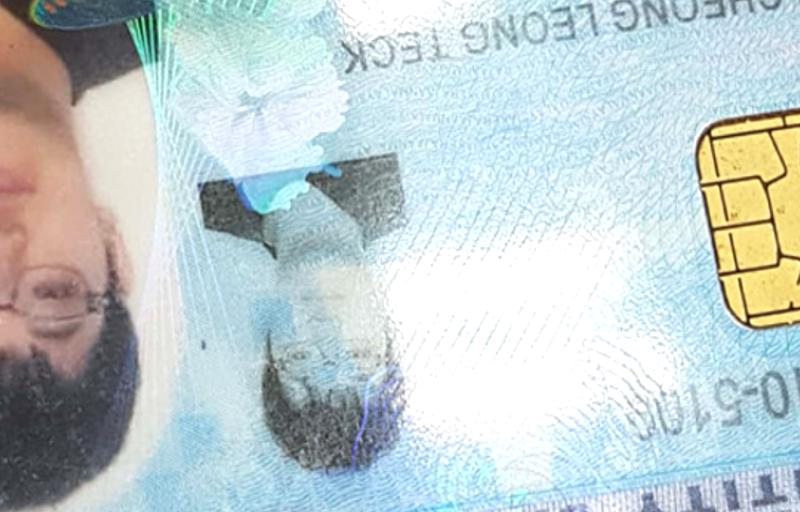hologramB: (165, 7, 338, 157)
